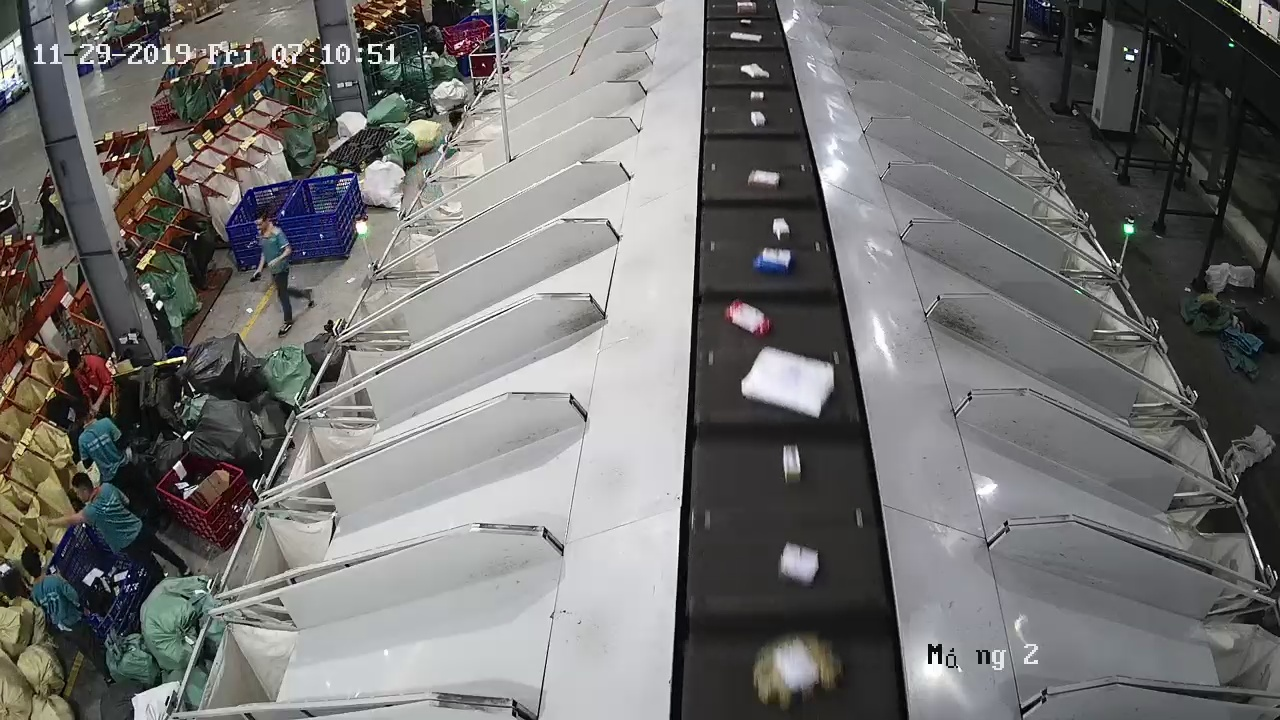parcel: (752, 630, 847, 714), (740, 346, 835, 420), (724, 298, 775, 341), (778, 541, 820, 589), (753, 246, 795, 276), (782, 444, 802, 486), (747, 169, 781, 191), (772, 217, 791, 241)
